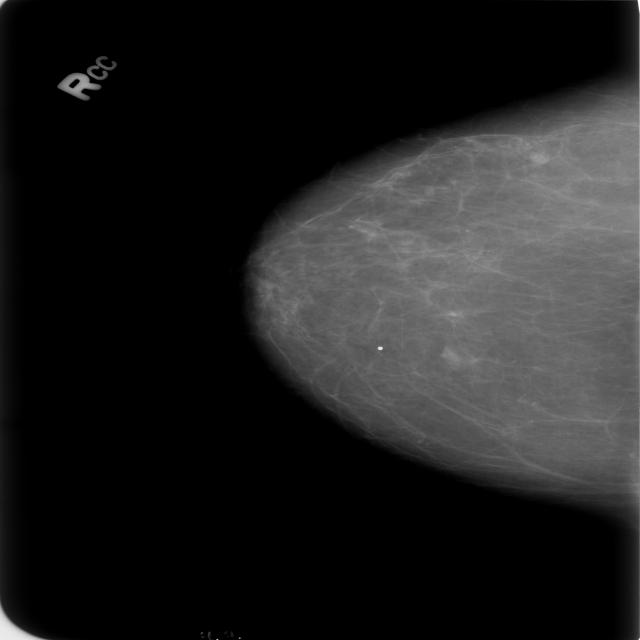normal: (245, 73, 640, 521)
